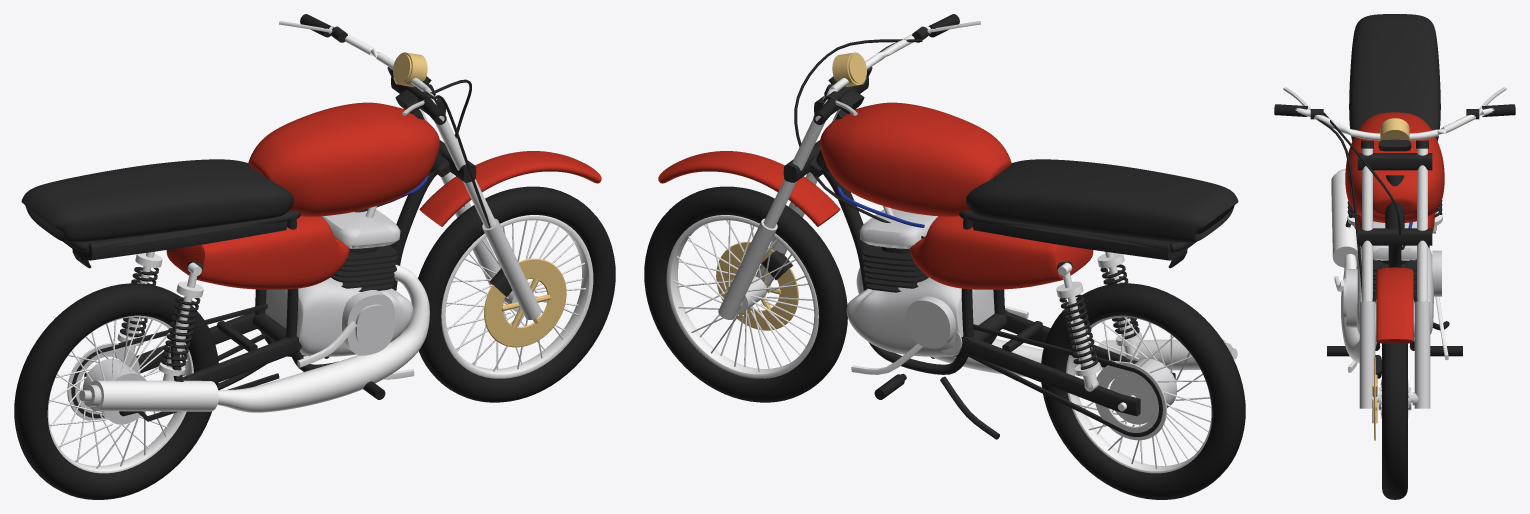
File: moto.glb
3 views of the same model, side by side, from view 1: azimuth 30°, elevation 25°; view 2: azimuth 150°, elevation 25°; view 3: azimuth 270°, elevation 25° (orthographic). The views are drawn at different scales.
Visible parts, largest first — view 1: Asiento, Tanque, Rueda_Trasera_Llanta, Rueda_Delantera_Llanta, Tapa_Lateral, Expansion, Carter, Basculante, Guardabarros_Delantero, Rueda_Delantera_Disco_Freno, Rueda_Delantera_Rin, Silenciador (+22 smaller); view 2: Asiento, Tanque, Rueda_Trasera_Llanta, Rueda_Delantera_Llanta, Tapa_Lateral, Carter, Basculante, Chasis, Guardabarros_Delantero, Rueda_Delantera_Rayos, Rueda_Delantera_Rin, Bandeja_Asiento (+22 smaller); view 3: Asiento, Tanque, Rueda_Delantera_Llanta, Guardabarros_Delantero, Botella_Horquilla_Izq, Botella_Horquilla_Der, Silenciador, Barra_Horquilla_Izq, Barra_Horquilla_Der, Tijera_Inferior, Tijera_Superior, Manubrio (+17 smaller).
Part boxes in pixels (x1,y1,x2,y2): Asiento: [21, 159, 293, 242]; Tanque: [248, 102, 439, 216]; Rueda_Trasera_Llanta: [14, 283, 218, 499]; Rueda_Delantera_Llanta: [418, 186, 615, 402]; Tapa_Lateral: [166, 216, 349, 289]; Expansion: [217, 264, 429, 412]; Carter: [265, 277, 413, 356]; Basculante: [84, 312, 301, 416]; Guardabarros_Delantero: [419, 151, 601, 226]; Rueda_Delantera_Disco_Freno: [484, 258, 566, 347]; Rueda_Delantera_Rin: [441, 215, 593, 378]; Silenciador: [90, 380, 218, 411]; Asiento: [966, 159, 1238, 242]; Tanque: [820, 102, 1011, 216]; Rueda_Trasera_Llanta: [1041, 283, 1245, 499]; Rueda_Delantera_Llanta: [644, 186, 847, 402]; Tapa_Lateral: [910, 216, 1093, 289]; Carter: [846, 277, 994, 356]; Basculante: [960, 310, 1175, 416]; Chasis: [822, 171, 1193, 374]; Guardabarros_Delantero: [658, 151, 840, 226]; Rueda_Delantera_Rayos: [673, 220, 813, 371]; Rueda_Delantera_Rin: [666, 215, 818, 378]; Bandeja_Asiento: [972, 221, 1196, 260]; Asiento: [1349, 14, 1440, 140]; Tanque: [1345, 112, 1444, 222]; Rueda_Delantera_Llanta: [1382, 343, 1407, 499]; Guardabarros_Delantero: [1376, 267, 1413, 343]; Botella_Horquilla_Izq: [1412, 301, 1430, 408]; Botella_Horquilla_Der: [1359, 301, 1377, 408]; Silenciador: [1331, 171, 1357, 267]; Barra_Horquilla_Izq: [1417, 148, 1427, 301]; Barra_Horquilla_Der: [1362, 148, 1372, 301]; Tijera_Inferior: [1357, 228, 1432, 245]; Tijera_Superior: [1357, 153, 1432, 170]; Manubrio: [1295, 108, 1494, 140].
Bounding box in the file's own units: 1.87 × 1.12 × 0.7456.
